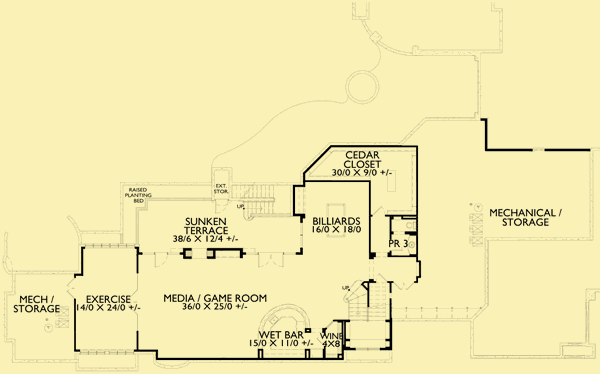door: (256, 251, 284, 268), (154, 252, 168, 268), (214, 199, 228, 213)
large_sink: (405, 220, 418, 229)
small_sink: (407, 236, 418, 252)
stairs: (339, 278, 390, 322), (230, 181, 273, 221)
windows: (355, 346, 382, 351)
